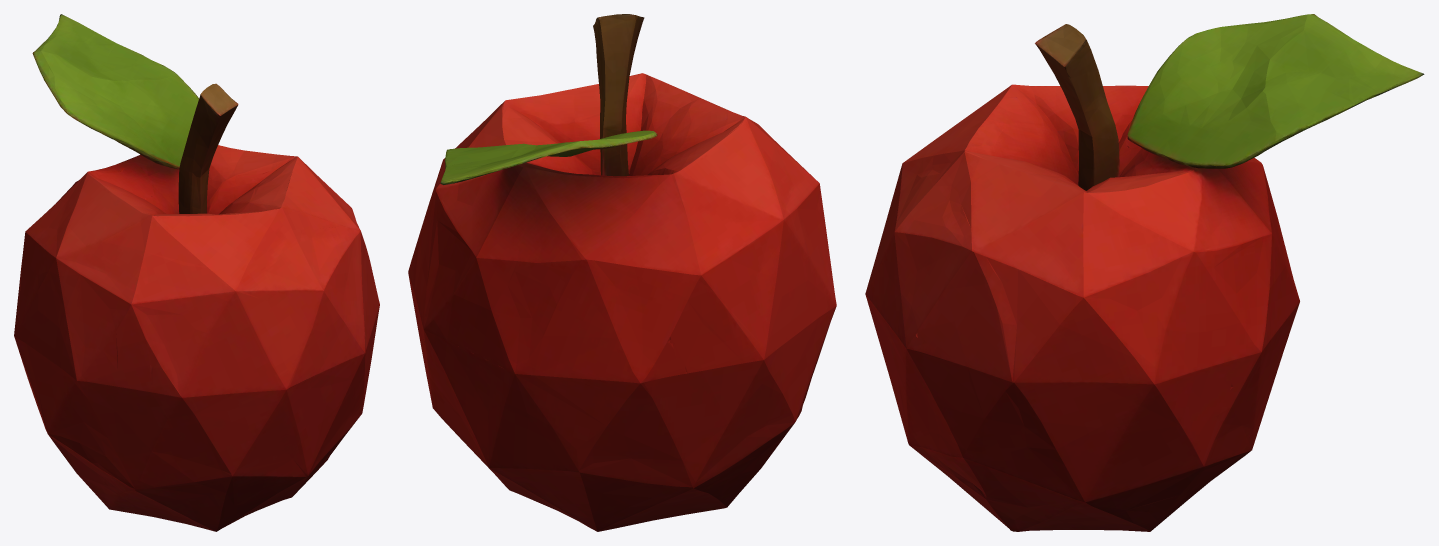
The model's file is apple.glb.
3 views of the same model, side by side, from view 1: azimuth 30°, elevation 25°; view 2: azimuth 150°, elevation 25°; view 3: azimuth 270°, elevation 25° (orthographic). The views are drawn at different scales.
Visible parts, largest first — view 1: world; view 2: world; view 3: world.
Boxes of the visible parts, x1,y1,x2,y2 form: world: [14, 14, 379, 531]; world: [408, 14, 836, 531]; world: [865, 14, 1424, 531].
Size of the model in its own units: 0.7367 by 0.9265 by 0.9975.
1 material, 1 textured.
